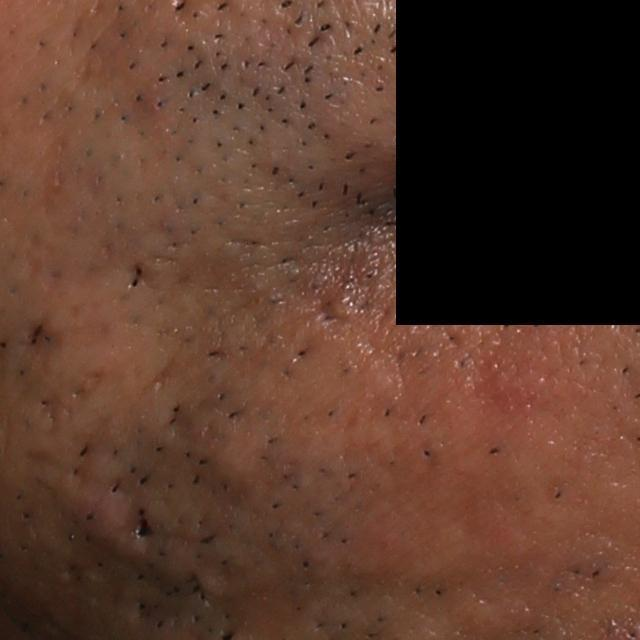hypertrophic_scar: (492, 418, 596, 545), (380, 513, 497, 584), (72, 494, 151, 562), (455, 584, 540, 639), (209, 436, 266, 490)
